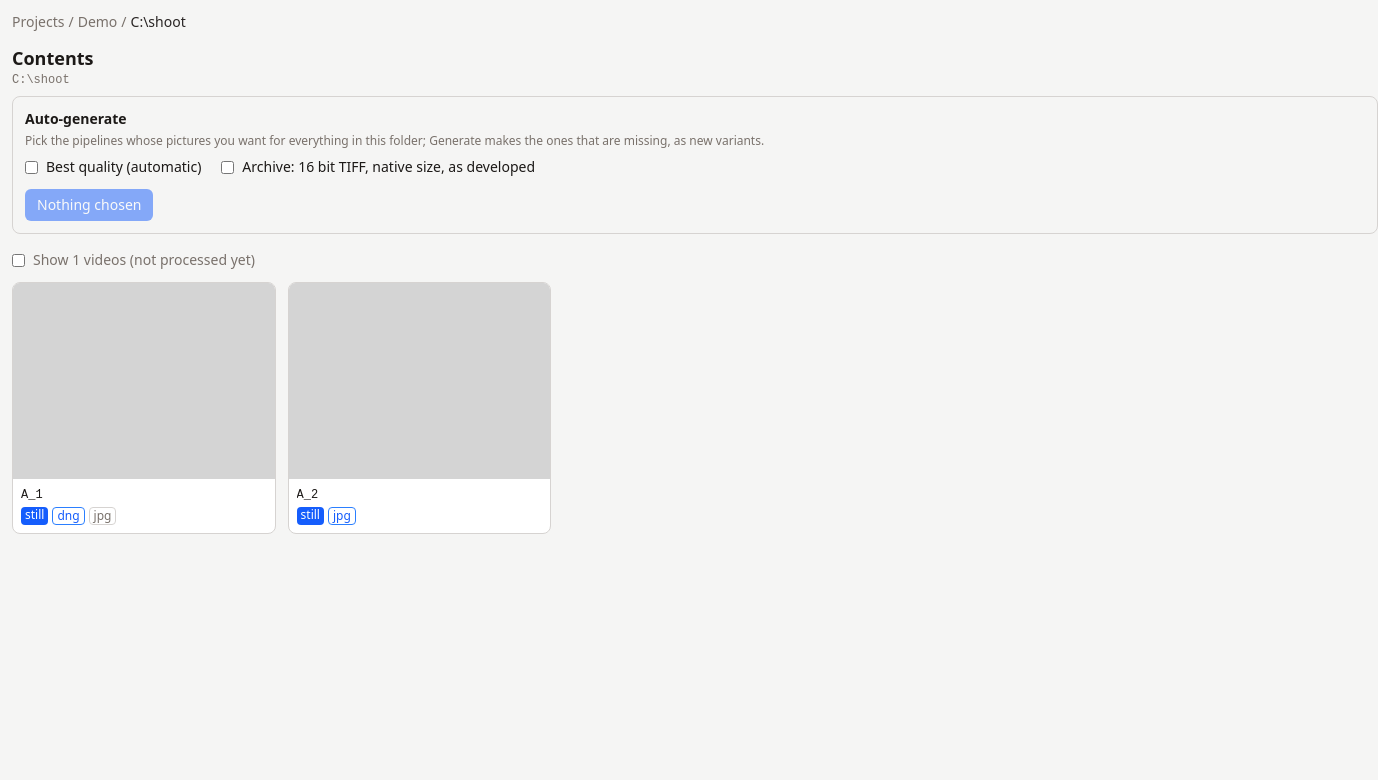
Test case: SourcePage › shows a thumbnail per picture, hides videos until asked, and links to the item
This screenshot has width=1378, height=780.
Click the checkbox labelled "Show 1 videos (not processed yet)" at (18, 260), box [12,254,25,266]
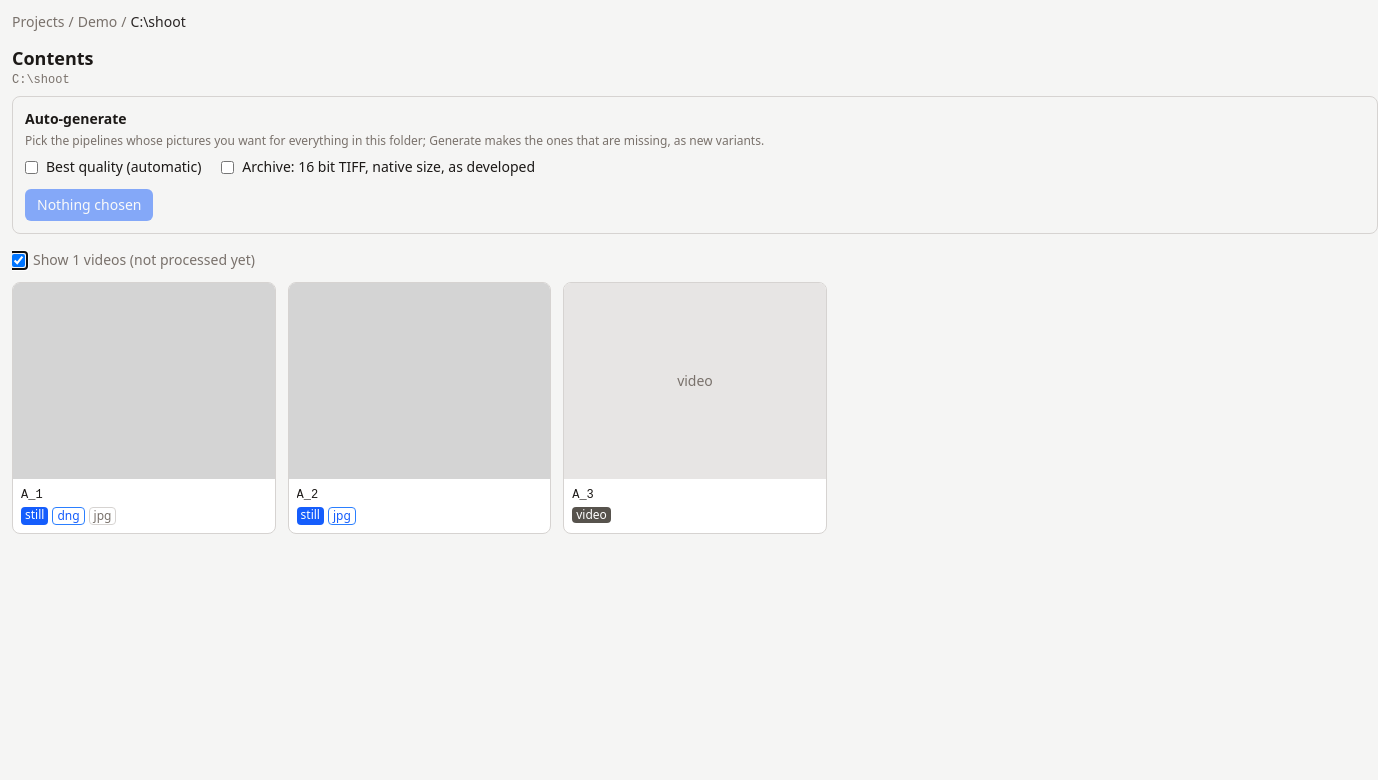
Expected: the text "video" is shown 2 times, [677,371,713,391]; [572,507,611,523]
